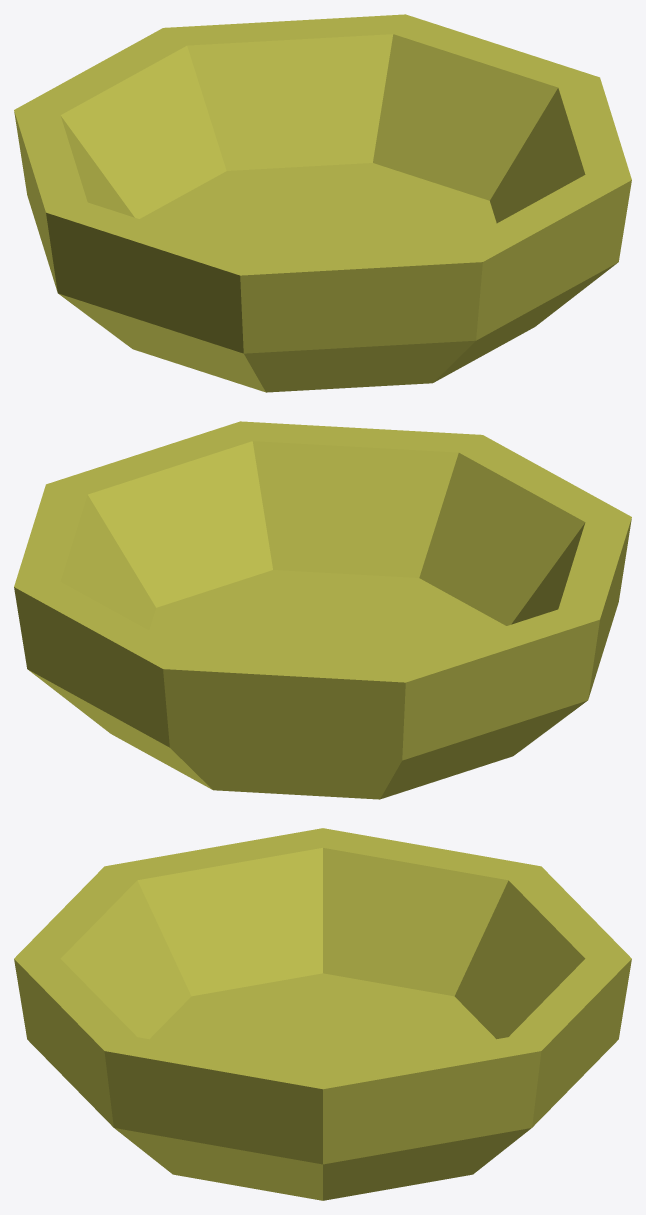
Rendered from Basket_Empty.fbx.
The picture shows the model from 3 angles, top to bottom: view 1: azimuth 30°, elevation 25°; view 2: azimuth 150°, elevation 25°; view 3: azimuth 270°, elevation 25°; orthographic projection. The views are drawn at different scales.
Visible parts, largest first — view 1: Basket; view 2: Basket; view 3: Basket.
Part boxes in pixels (x1=…): Basket: x1=14, y1=14, x2=631, y2=392; Basket: x1=14, y1=421, x2=631, y2=799; Basket: x1=14, y1=828, x2=631, y2=1200.
Size of the model in its own units: 2.91 by 0.7928 by 2.91.
Materials: 1 (1 with a texture image).
